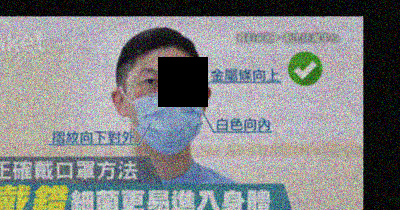with_mask: (126, 63, 202, 153)
